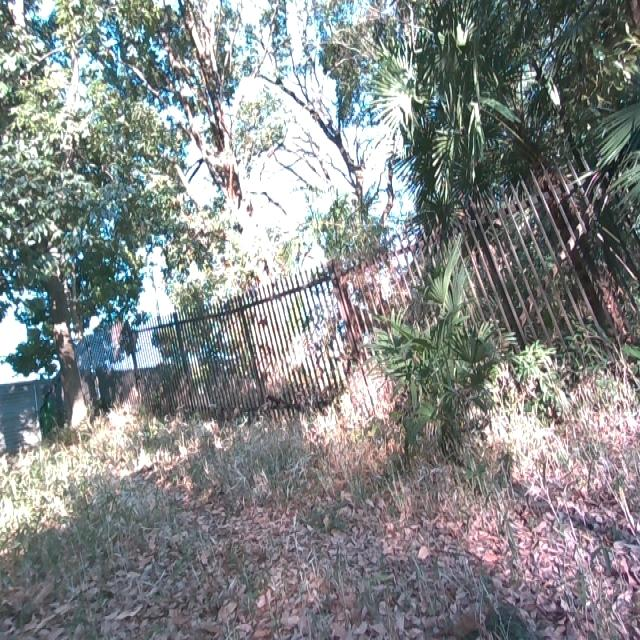artifact: (52, 167, 640, 427)
bush: (346, 226, 536, 468)
tree: (144, 0, 282, 272), (24, 179, 102, 438)
